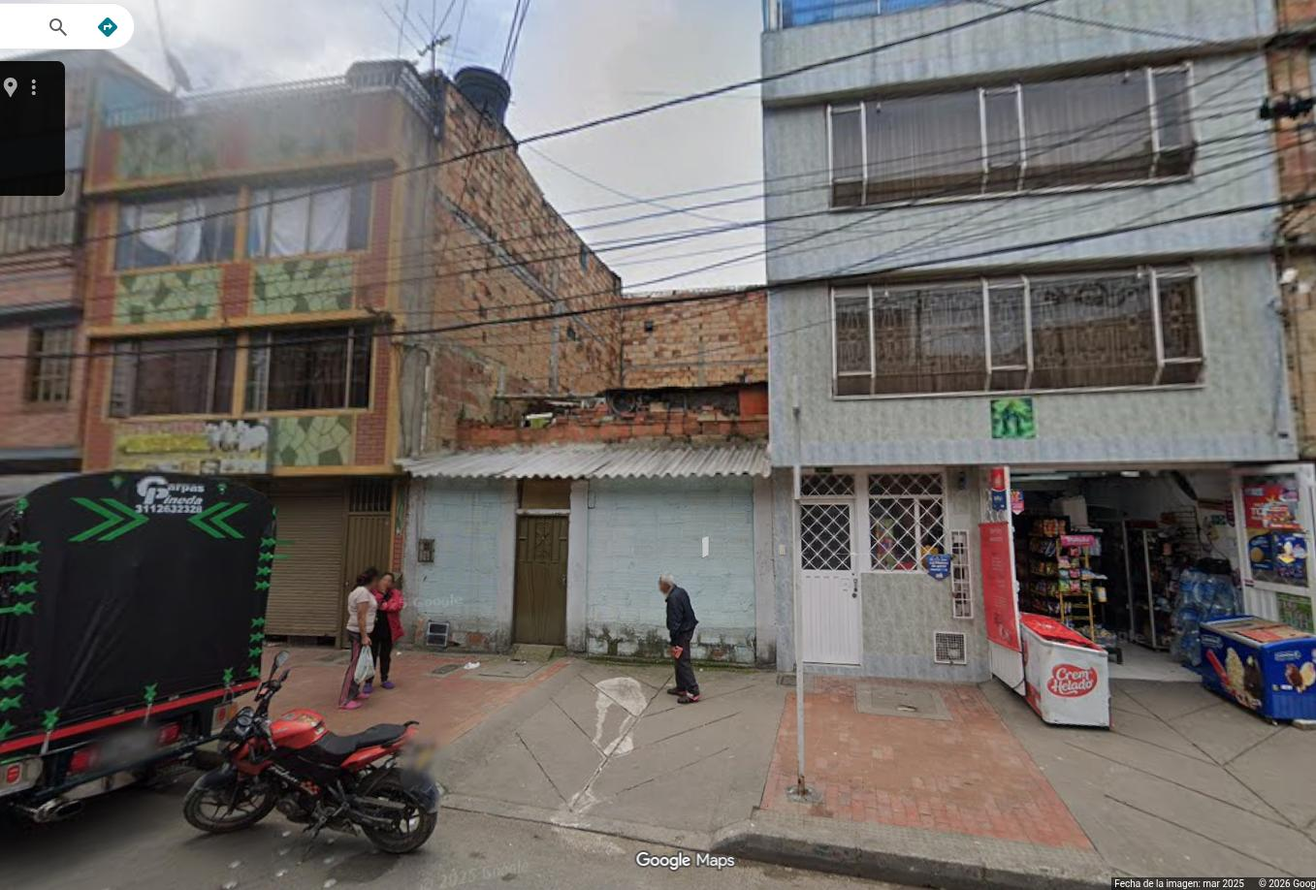casa: (761, 0, 1315, 724), (77, 59, 625, 636), (401, 387, 775, 663)
